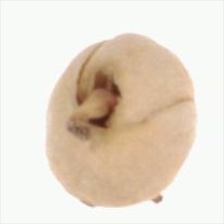L3: (69, 69, 125, 135)
L4: (45, 33, 197, 209)
